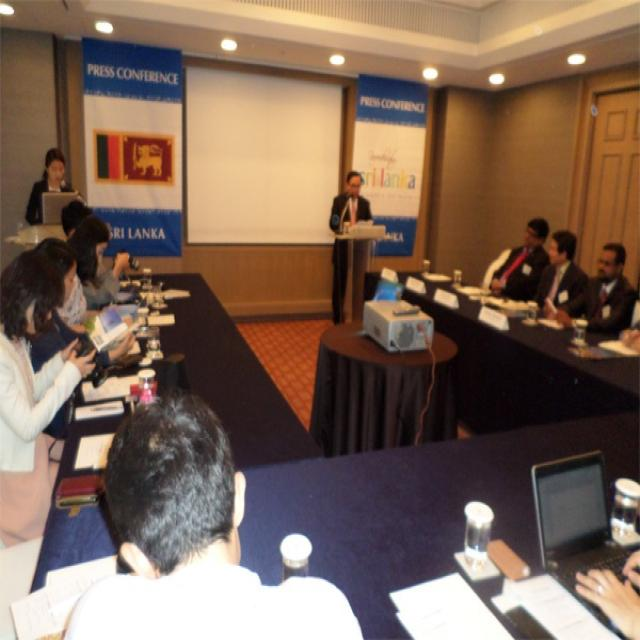body: (62, 391, 365, 640), (0, 249, 98, 550), (26, 235, 138, 441), (555, 239, 639, 347), (326, 166, 376, 330), (63, 215, 142, 313), (570, 547, 640, 638), (486, 216, 555, 306), (532, 228, 590, 318), (23, 145, 77, 228), (35, 198, 94, 250), (56, 274, 88, 326)
